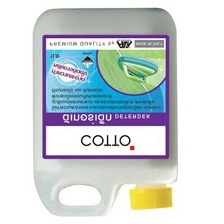cleaning_solution: (28, 5, 179, 220)
